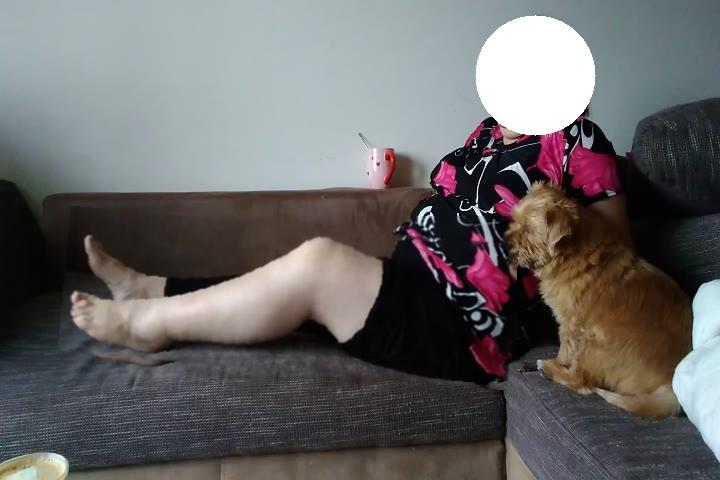lowerbody: (61, 217, 518, 382)
